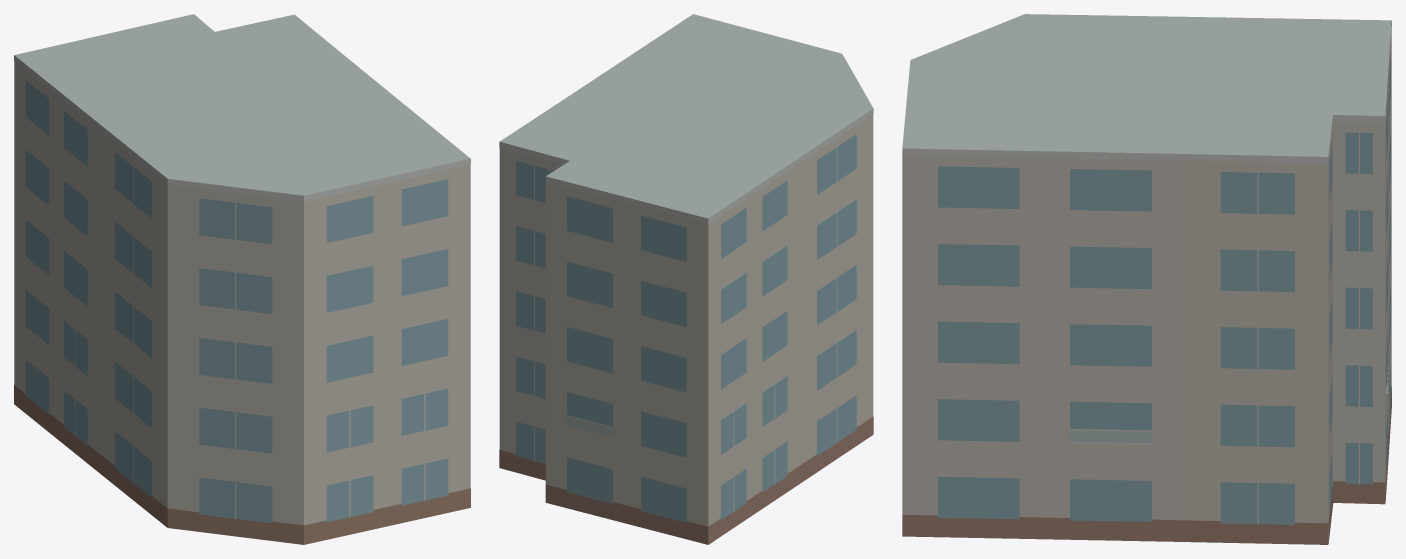
The model's file is survey-upis-32836113.glb.
The picture shows the model from 3 angles, left to right: view 1: azimuth 30°, elevation 25°; view 2: azimuth 150°, elevation 25°; view 3: azimuth 270°, elevation 25°; orthographic projection. The views are drawn at different scales.
Visible parts, largest first — view 1: survey-upis-32836113.tmp; view 2: survey-upis-32836113.tmp; view 3: survey-upis-32836113.tmp.
Part boxes in pixels (left/top/right/bottom): survey-upis-32836113.tmp: left=14, top=14, right=470, bottom=544; survey-upis-32836113.tmp: left=499, top=14, right=873, bottom=544; survey-upis-32836113.tmp: left=902, top=14, right=1391, bottom=544.
Bounding box in the file's own units: 11.31 × 14.3 × 16.36.
